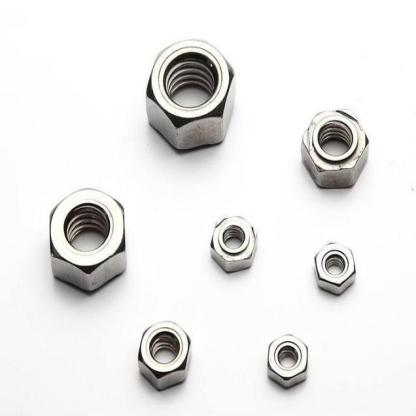FOD: (144, 34, 238, 157), (47, 186, 128, 296), (297, 104, 370, 190), (136, 318, 194, 392), (208, 211, 259, 276), (264, 331, 311, 390), (312, 240, 358, 298)
